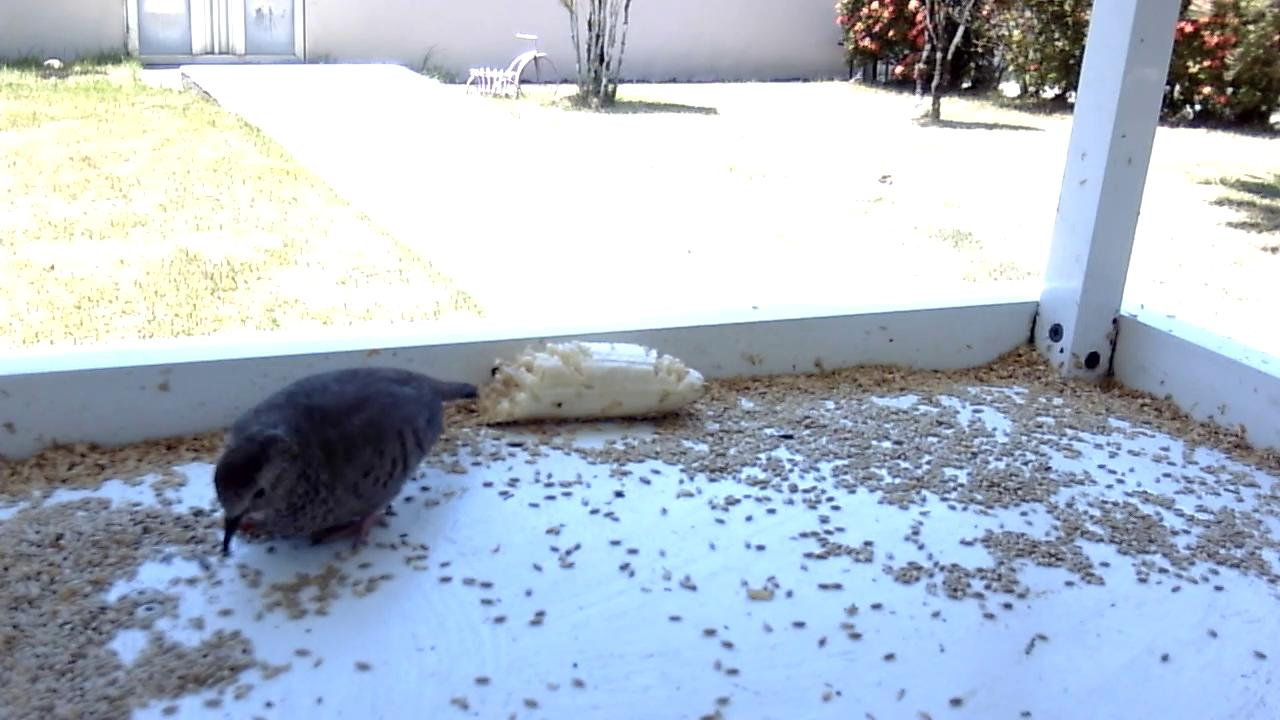rolinha: (210, 362, 482, 563)
